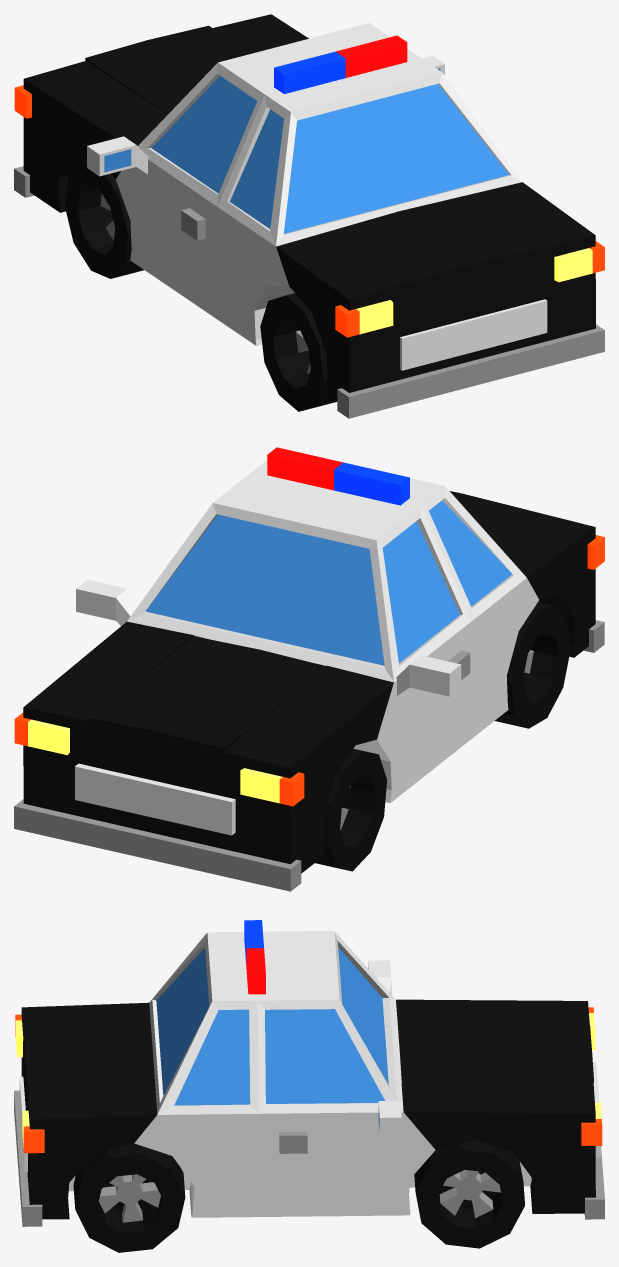
Rendered from Police_Car_2.glb.
The picture shows the model from 3 angles, top to bottom: view 1: azimuth 30°, elevation 25°; view 2: azimuth 150°, elevation 25°; view 3: azimuth 270°, elevation 25°; orthographic projection. The views are drawn at different scales.
Visible parts, largest first — view 1: Cylinder.002; view 2: Cylinder.002; view 3: Cylinder.002.
Part boxes in pixels (box(x1,y1,x2,y2)): Cylinder.002: box(14, 14, 604, 418); Cylinder.002: box(14, 447, 604, 891); Cylinder.002: box(14, 920, 604, 1252).
Bounding box in the file's own units: 7.44 × 5.45 × 11.8.
1 material, 1 textured.
